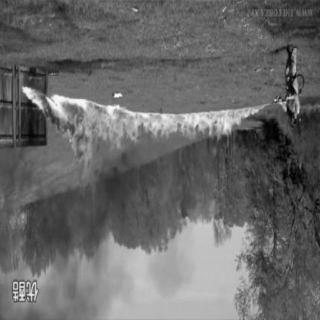Fire: (13, 66, 270, 190)
